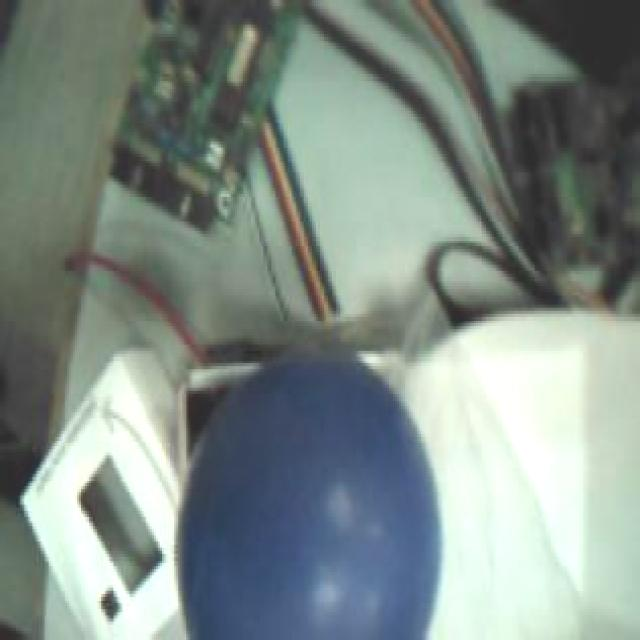BallPurple: (178, 359, 441, 640)
